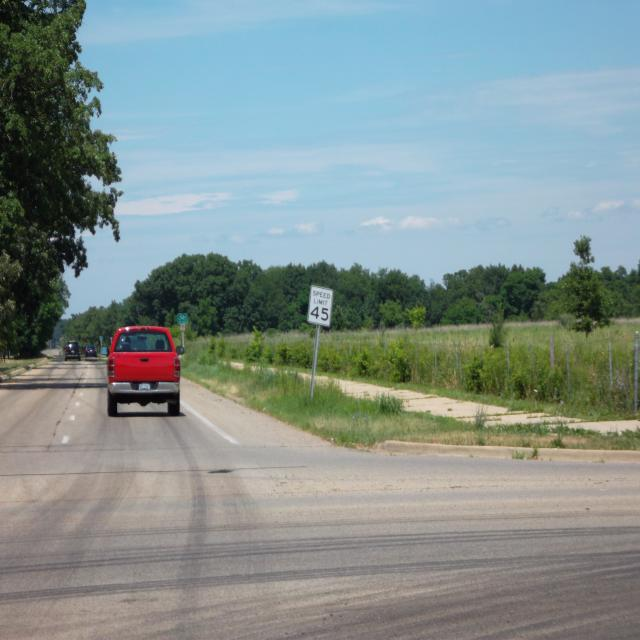regulatory: (305, 276, 336, 332), (305, 278, 336, 333)
